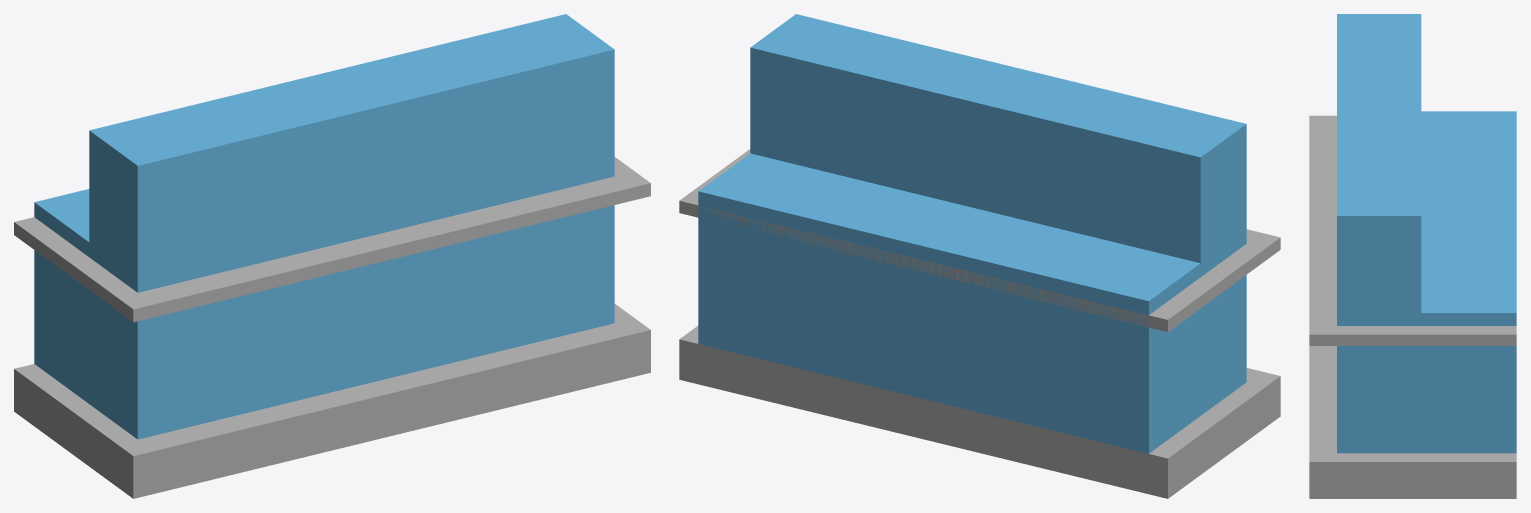
File: table.fbx
3 views of the same model, side by side, from view 1: azimuth 30°, elevation 25°; view 2: azimuth 150°, elevation 25°; view 3: azimuth 270°, elevation 25° (orthographic). The views are drawn at different scales.
Parts seen in each view (by area): view 1: table; view 2: table; view 3: table.
Part boxes in pixels (x1,y1,x2,y2): table: [14, 14, 650, 498]; table: [679, 14, 1280, 498]; table: [1309, 14, 1516, 498].
Size of the model in its own units: 242 by 141 by 96.73.
